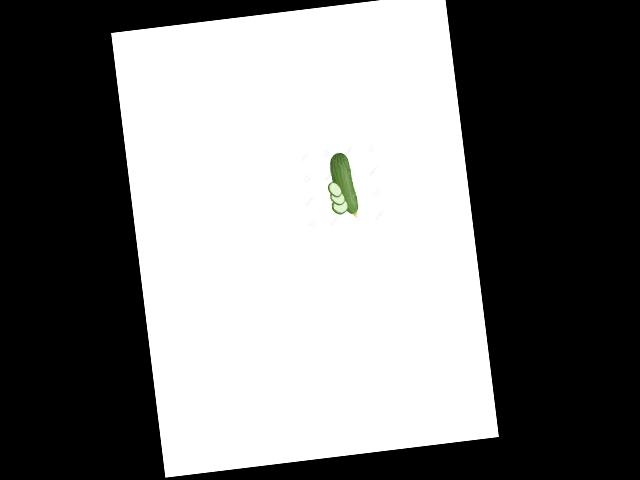cucumber: (328, 150, 359, 219)
